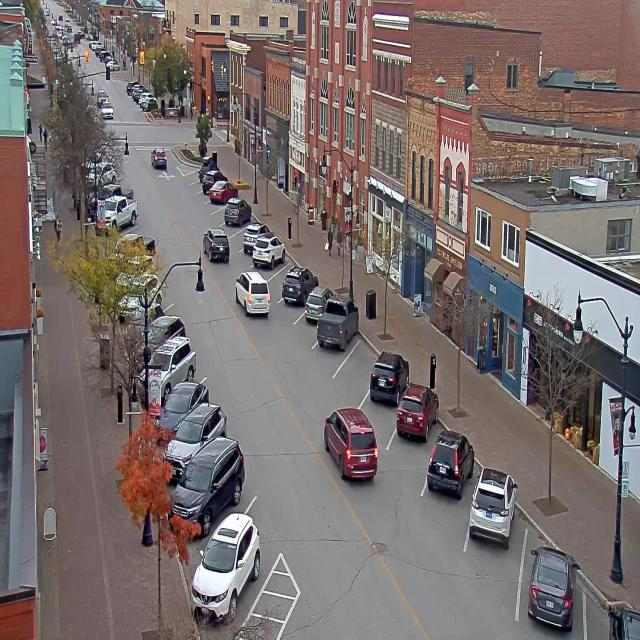available: (337, 331, 378, 394), (266, 262, 290, 296), (210, 200, 230, 228), (230, 225, 248, 250), (183, 167, 201, 186)
occupied: (170, 435, 246, 538), (196, 502, 266, 606), (527, 544, 579, 630), (468, 466, 518, 547), (426, 428, 475, 498), (394, 376, 437, 454), (154, 380, 208, 441), (174, 403, 239, 448), (151, 335, 200, 389), (588, 588, 638, 640), (316, 296, 358, 352), (368, 350, 409, 406), (282, 264, 318, 305), (252, 232, 285, 269), (302, 283, 328, 322), (224, 196, 251, 226), (210, 182, 238, 204), (198, 154, 218, 182), (200, 169, 224, 192), (244, 223, 262, 252)
